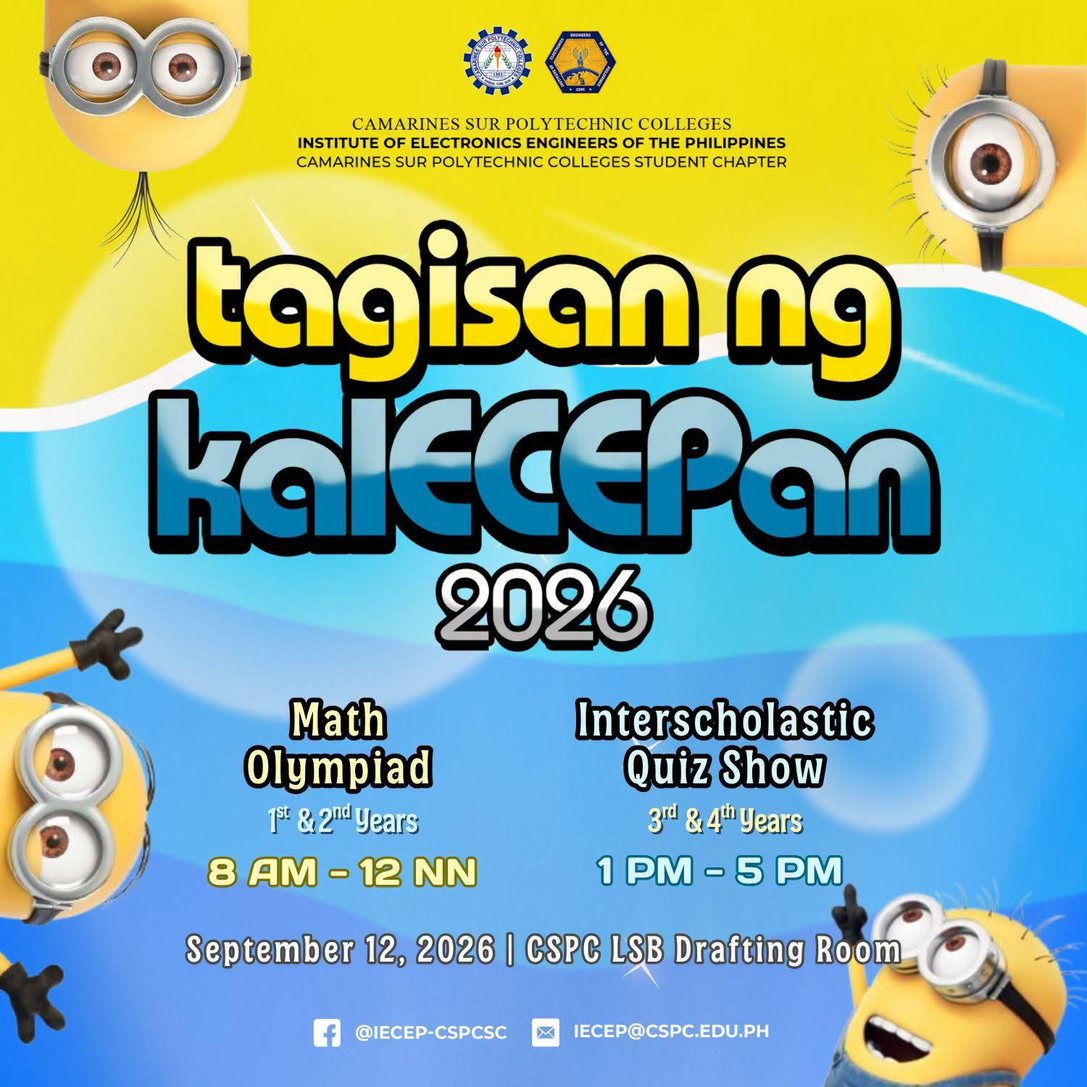embellishment: (311, 1015, 345, 1051), (530, 1015, 564, 1048)
logo: (458, 23, 540, 101), (543, 22, 621, 101)
text: (136, 213, 954, 659), (568, 690, 883, 894), (201, 687, 488, 896), (180, 923, 904, 973), (291, 110, 798, 181), (570, 1020, 773, 1043), (354, 1020, 511, 1046)
